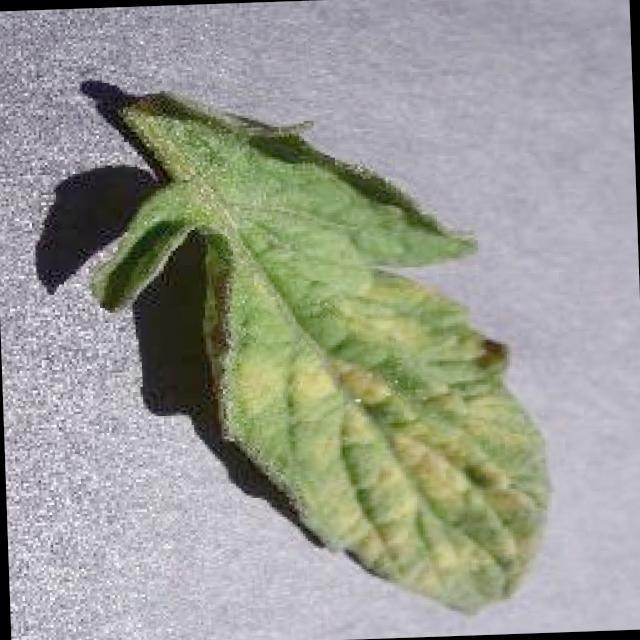Tomato mold leaf: (80, 79, 557, 633)
